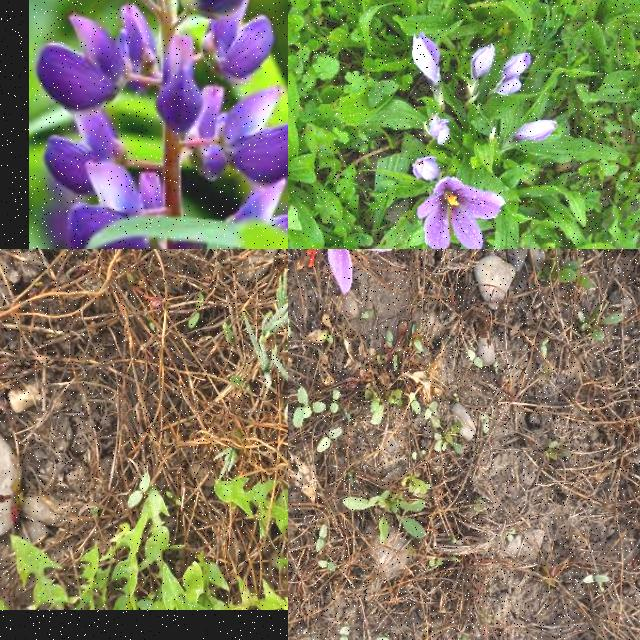flower: (416, 177, 505, 249), (306, 249, 396, 296), (413, 34, 441, 78), (514, 120, 560, 146), (472, 44, 496, 78), (412, 157, 438, 180)
overlap: (494, 54, 532, 96)
